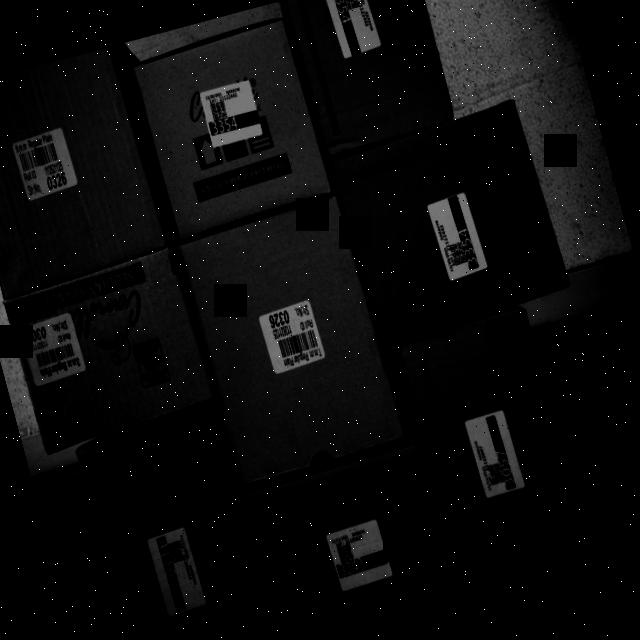box: (172, 198, 402, 486), (399, 304, 596, 610), (331, 96, 569, 346), (74, 412, 268, 640), (239, 446, 467, 640), (0, 42, 174, 296), (4, 253, 218, 455), (130, 22, 330, 232), (287, 0, 452, 150)
